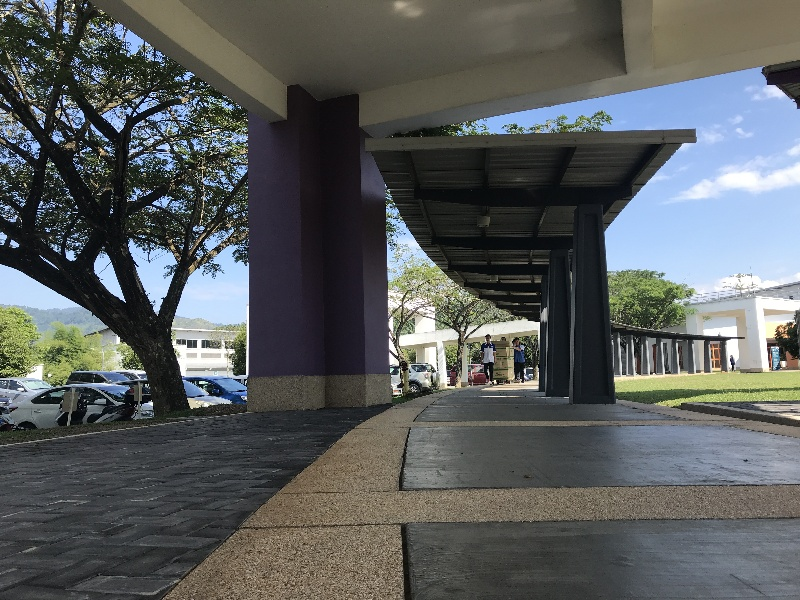Block D corridor: (14, 8, 794, 592)
pillar: (228, 92, 401, 417), (547, 197, 622, 411)
